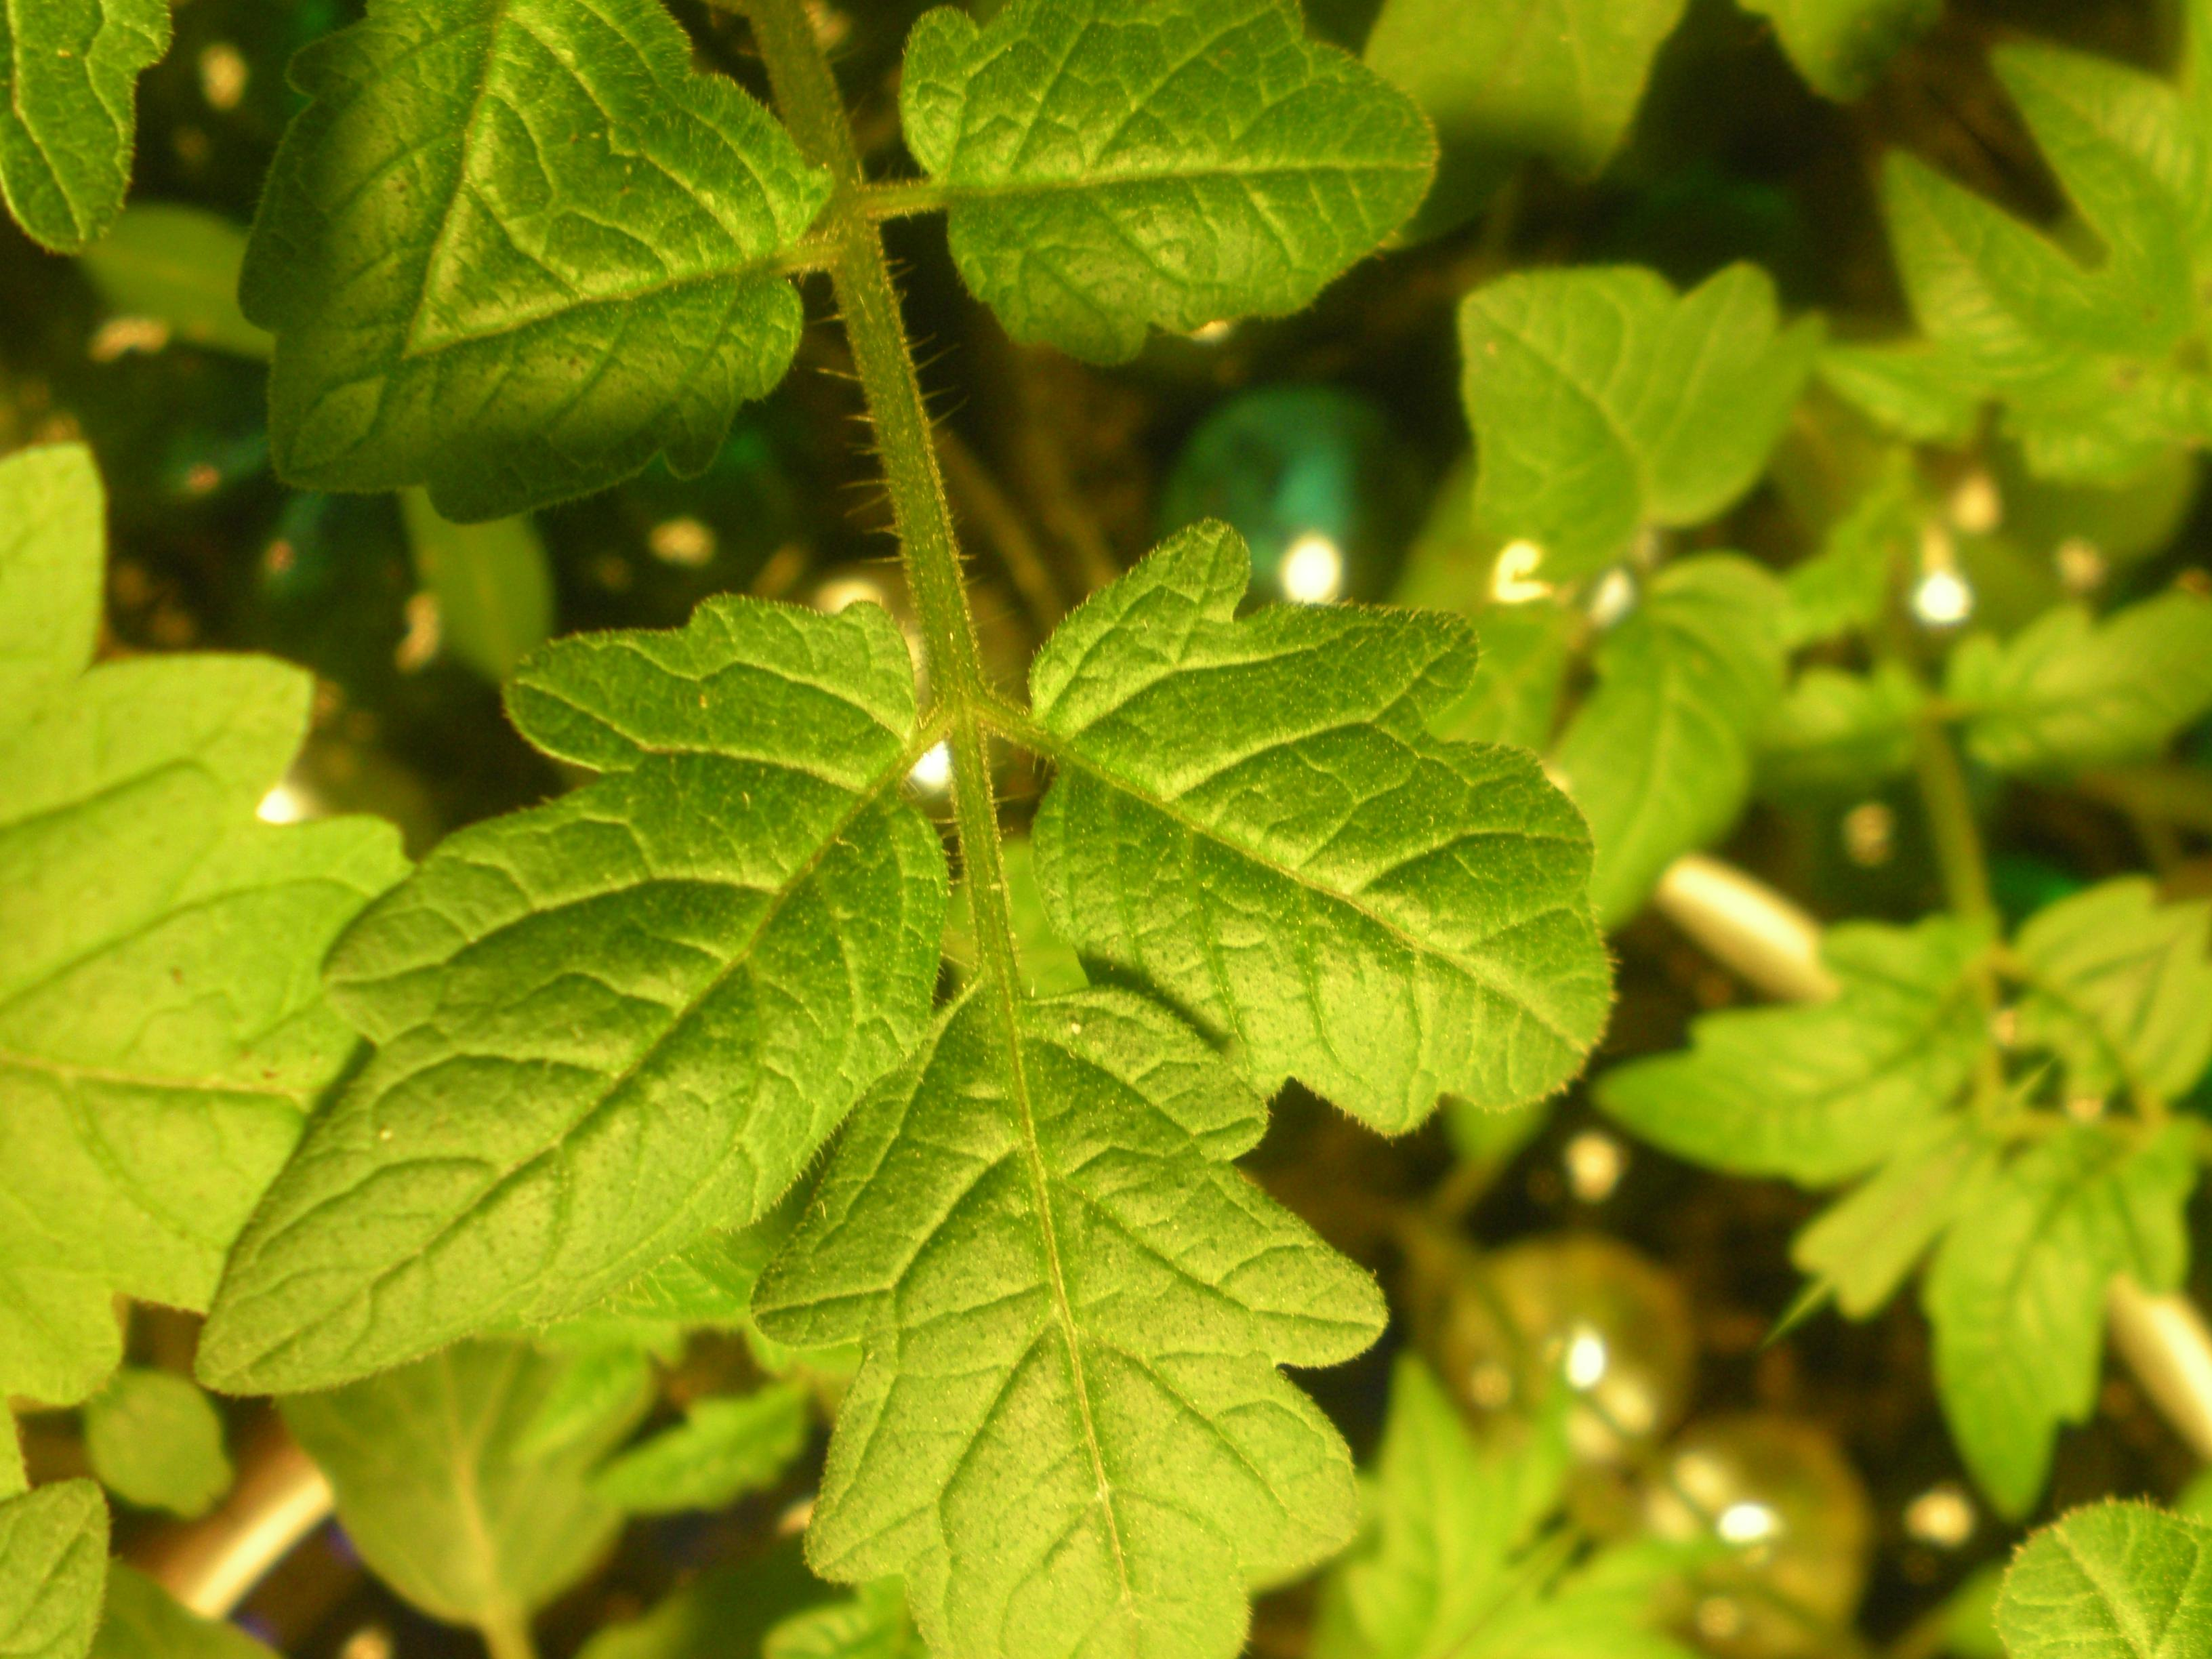Tomato leaf: (0, 451, 1129, 1575), (831, 368, 1763, 1302), (577, 882, 1536, 1659), (261, 45, 941, 720), (796, 0, 1534, 551), (1318, 120, 1878, 680), (1566, 800, 2087, 1319), (1433, 507, 1907, 979)
